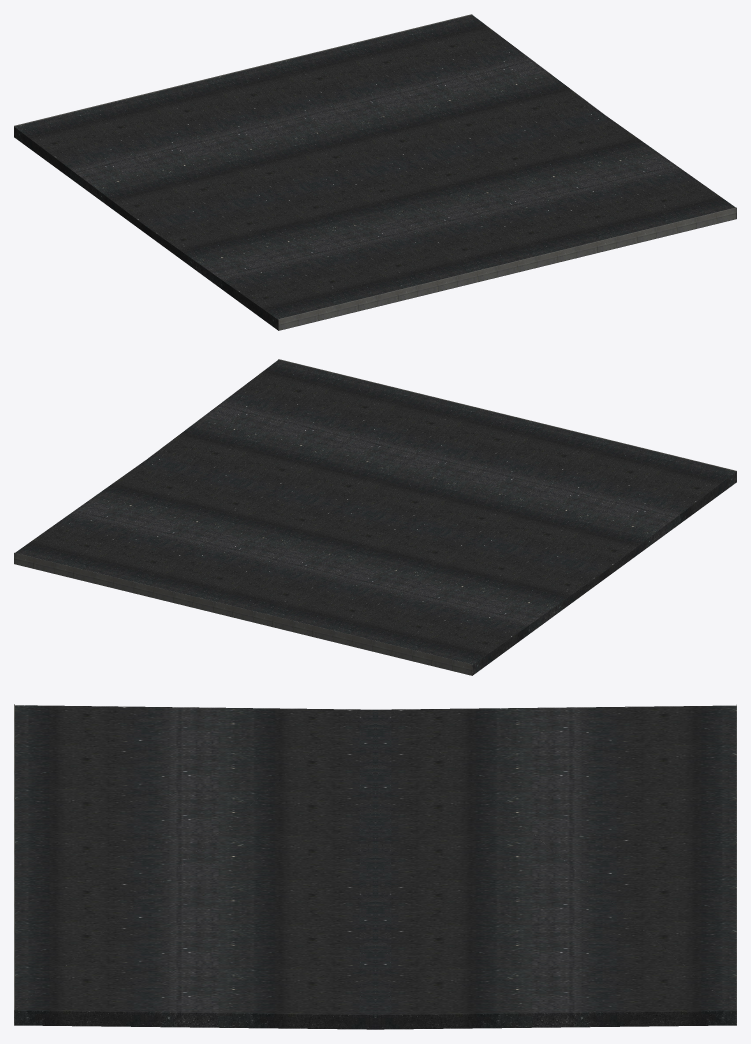
The model's file is road-inter.glb.
3 views of the same model, one above another, from view 1: azimuth 30°, elevation 25°; view 2: azimuth 150°, elevation 25°; view 3: azimuth 270°, elevation 25° (orthographic). The views are drawn at different scales.
Parts seen in each view (by area): view 1: Model; view 2: Model; view 3: Model.
Part boxes in pixels (x1,y1,x2,y2): Model: (14,14,736,330); Model: (14,359,736,675); Model: (14,704,736,1029).
Size of the model in its own units: 100 by 3 by 100.
2 materials, 2 textured.
